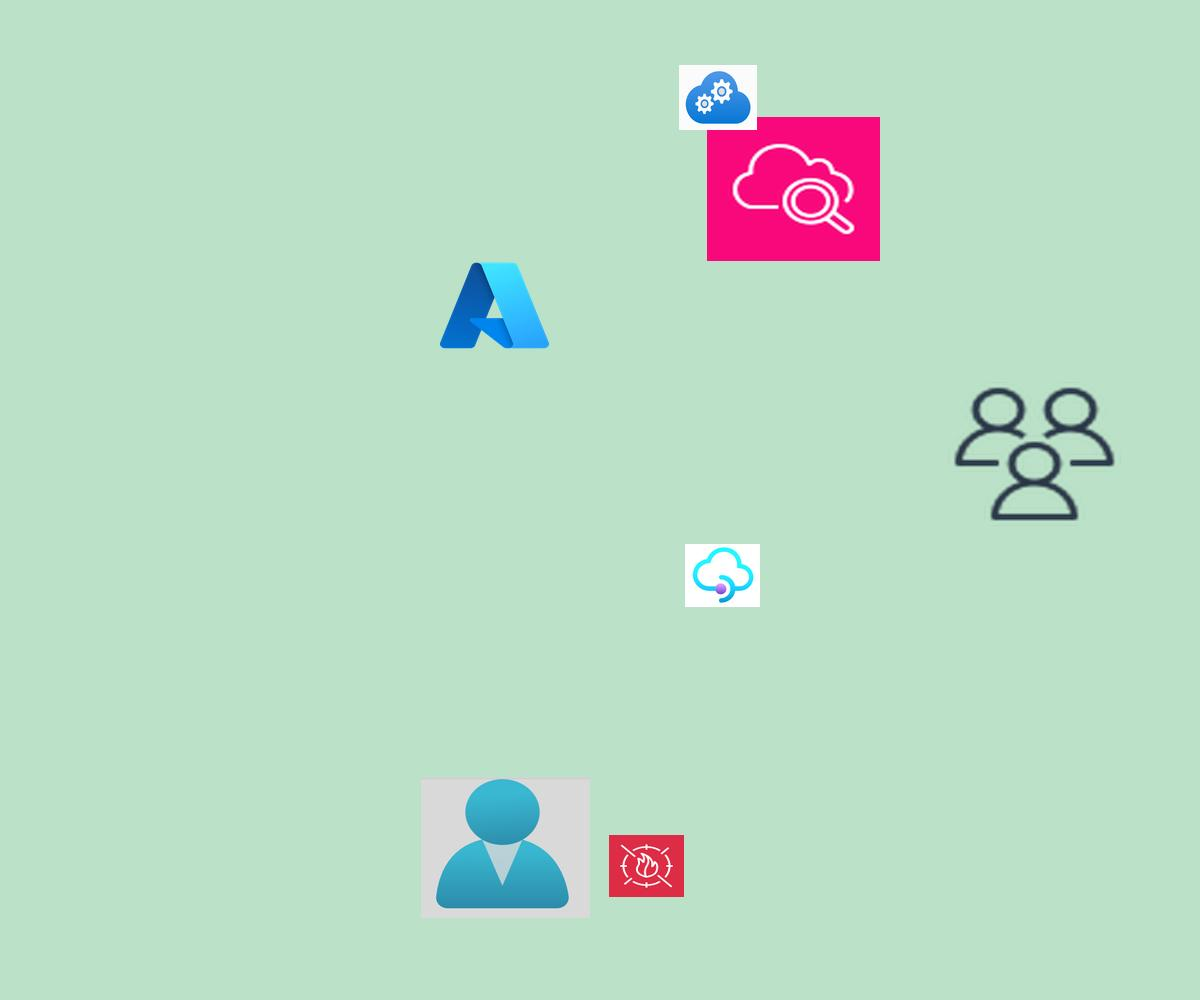AWS-CloudWatch: (707, 117, 880, 261)
AWS-Res_Users: (948, 382, 1121, 526)
AWS-WAF: (609, 835, 684, 897)
Azure_api_gateway: (685, 544, 760, 607)
Azure_cloud_services: (679, 65, 757, 130)
Azure_services: (435, 256, 554, 355)
Azure_users: (421, 777, 590, 918)
